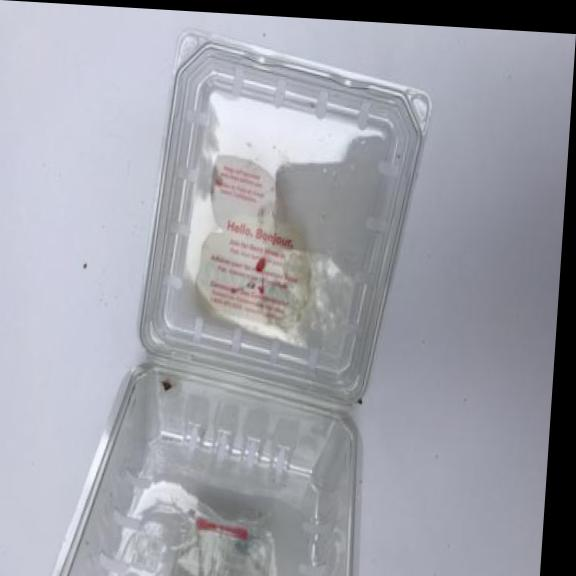Plastik: (139, 28, 438, 418), (48, 357, 377, 576)
